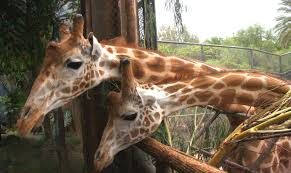Jirafa: (14, 11, 108, 128), (95, 52, 175, 173)
